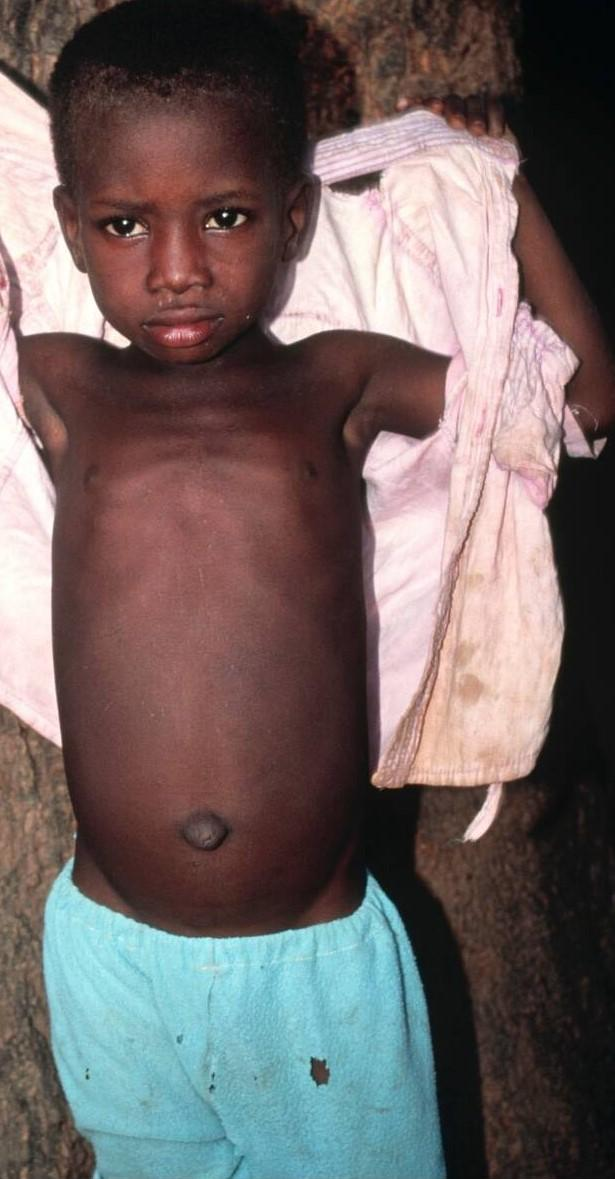Stunting: (40, 0, 380, 430)
